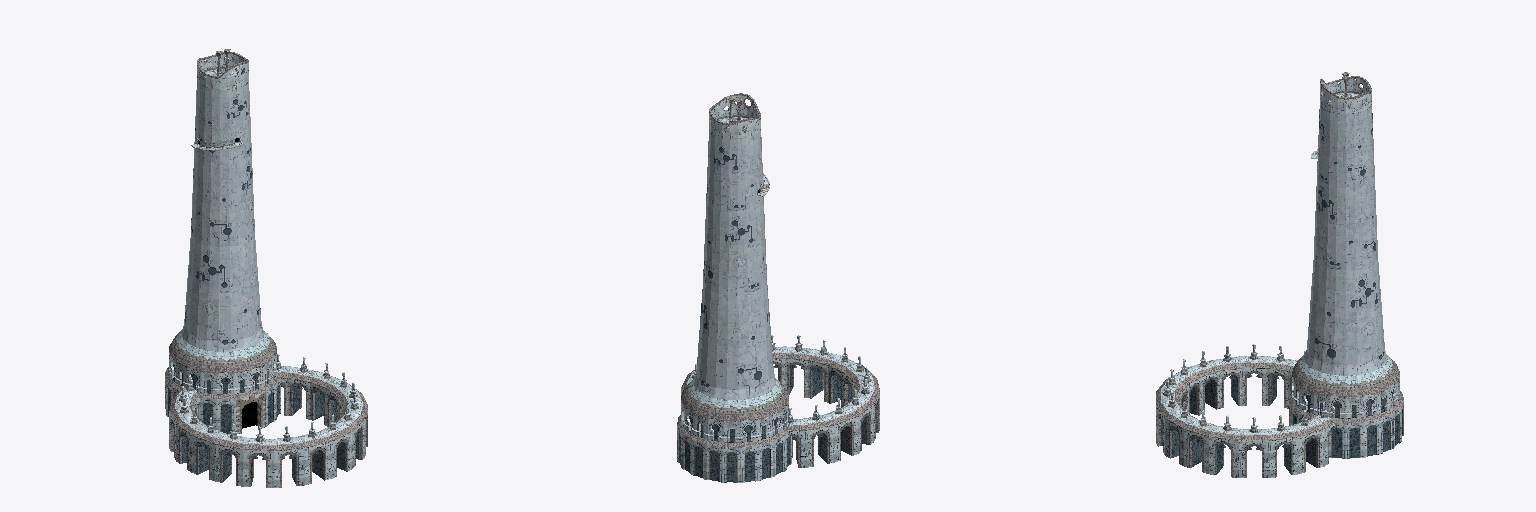
3 views of the same model, side by side, from view 1: azimuth 30°, elevation 25°; view 2: azimuth 150°, elevation 25°; view 3: azimuth 270°, elevation 25° (orthographic).
Visible parts, largest first — view 1: x_tower_x_tower.001; view 2: x_tower_x_tower.001; view 3: x_tower_x_tower.001.
Part boxes in pixels (x1,y1,x2,y2): x_tower_x_tower.001: (165, 49, 367, 487); x_tower_x_tower.001: (677, 93, 879, 482); x_tower_x_tower.001: (1156, 72, 1403, 477).
Bounding box in the file's own units: 16198 × 32844 × 20458.
Materials: 8 (8 with a texture image).